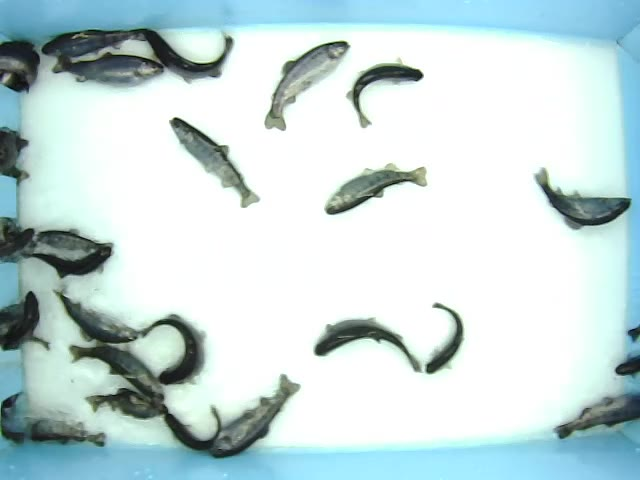fish: (168, 116, 260, 207), (261, 38, 351, 131), (211, 373, 303, 458), (312, 317, 422, 376), (67, 338, 166, 403), (533, 167, 633, 230), (345, 55, 424, 129), (321, 161, 428, 215), (142, 25, 235, 84), (139, 313, 207, 389), (51, 288, 140, 346), (49, 49, 163, 88), (39, 25, 148, 59), (421, 302, 465, 374), (17, 249, 112, 280), (161, 404, 223, 450), (83, 385, 160, 419), (33, 227, 115, 255)
